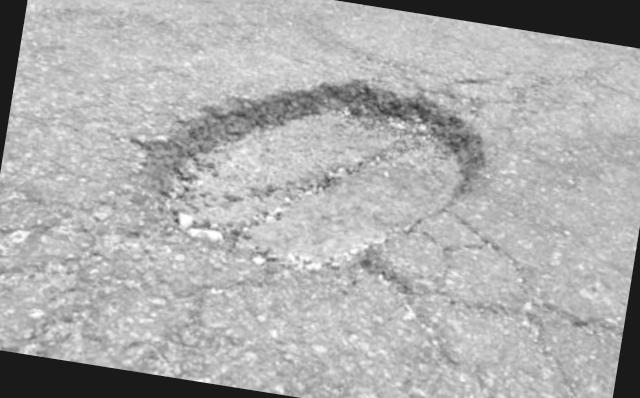Pothole: (116, 36, 508, 300)
